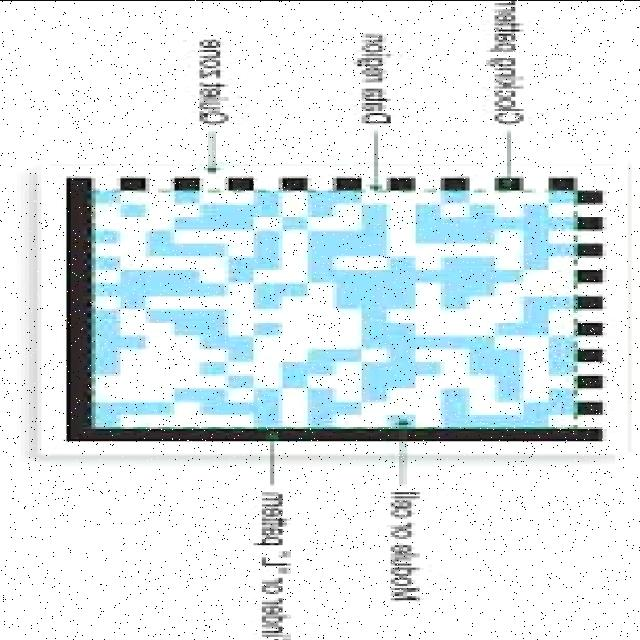datamatrix: (46, 155, 623, 450)
